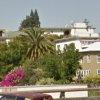Palm tree: (17, 21, 51, 64)
